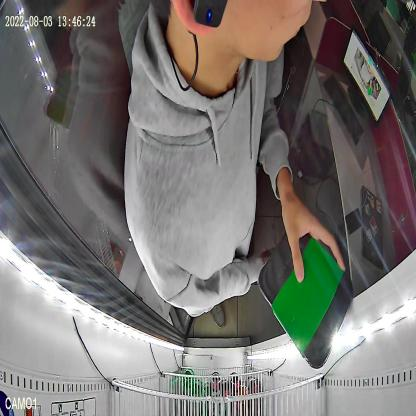green: (258, 230, 354, 369)
